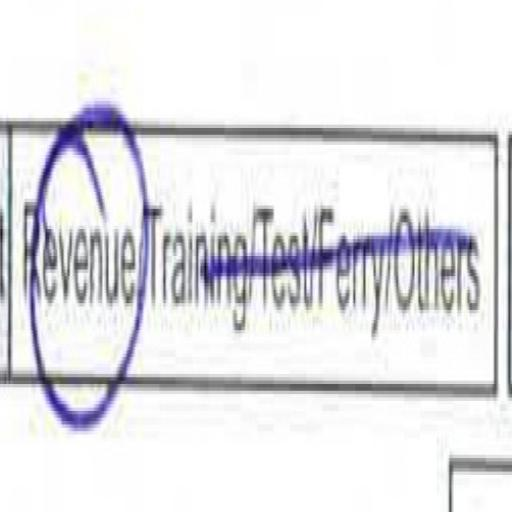check: (17, 81, 149, 461)
